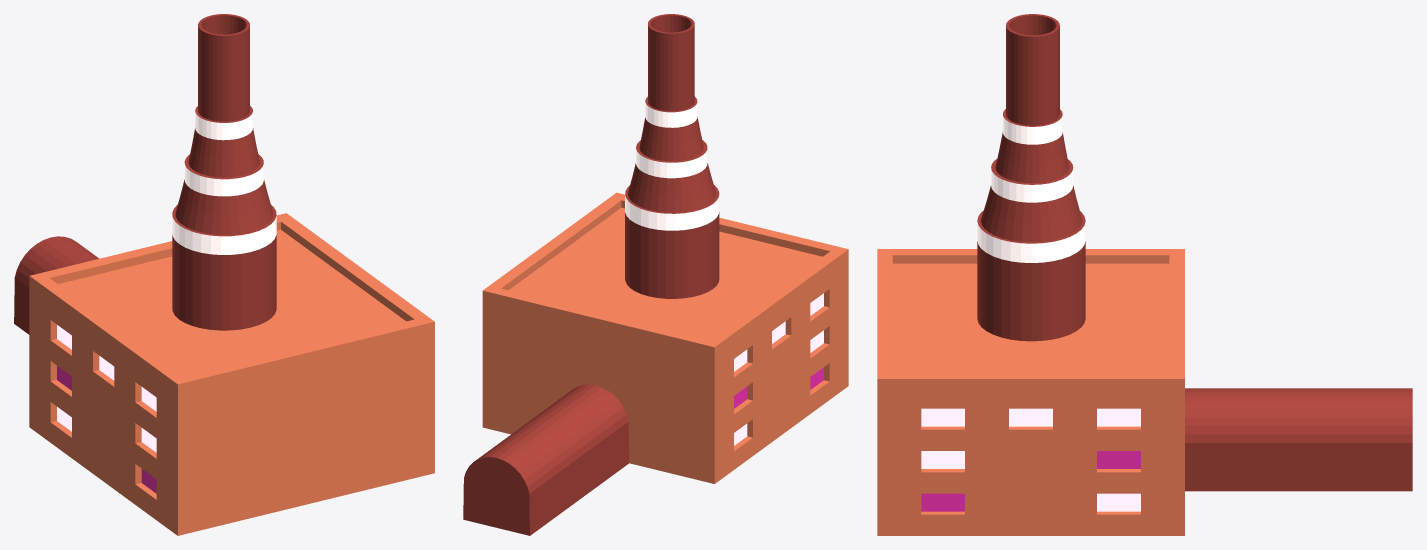
File: factory-extension.gltf
3 views of the same model, side by side, from view 1: azimuth 30°, elevation 25°; view 2: azimuth 150°, elevation 25°; view 3: azimuth 270°, elevation 25° (orthographic). The views are drawn at different scales.
Parts seen in each view (by area): view 1: Cube.001; view 2: Cube.001; view 3: Cube.001.
Part boxes in pixels (box(x1,y1,x2,y2)): Cube.001: box(14, 14, 434, 535); Cube.001: box(463, 14, 848, 535); Cube.001: box(877, 14, 1412, 535).
Bounding box in the file's own units: 5.31 × 8.41 × 9.24.
